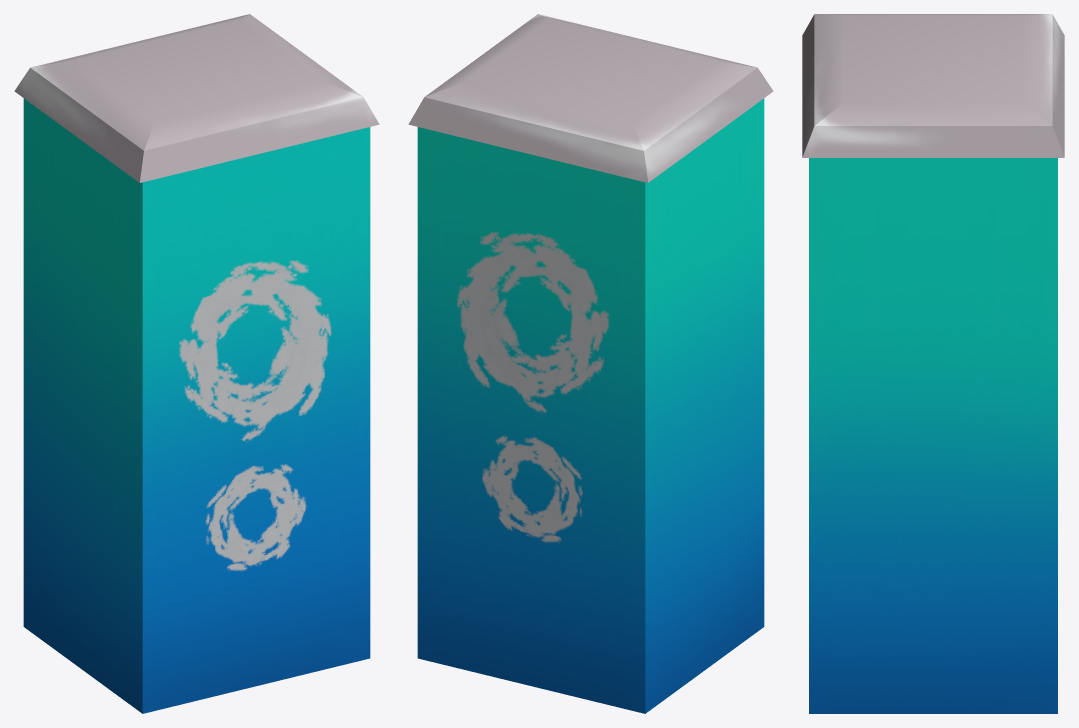
File: Food_Box2.fbx
3 views of the same model, side by side, from view 1: azimuth 30°, elevation 25°; view 2: azimuth 150°, elevation 25°; view 3: azimuth 270°, elevation 25° (orthographic). The views are drawn at different scales.
Parts seen in each view (by area): view 1: pCube5; view 2: pCube5; view 3: pCube5.
Boxes of the visible parts, x1,y1,x2,y2 form: pCube5: (14,14,379,713); pCube5: (408,14,773,713); pCube5: (802,14,1064,713).
Bounding box in the file's own units: 9.56 × 21.72 × 8.66.
1 material, 1 textured.
